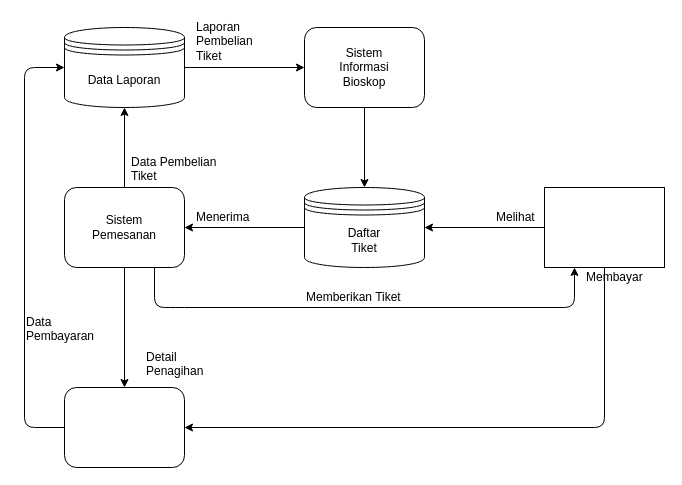
This 682x485 diagram has some shape labels left out. Each missing label, with the box of its shape:
Interface Database Bioskop: (64, 386, 184, 468)
Pelanggan: (544, 186, 664, 268)
